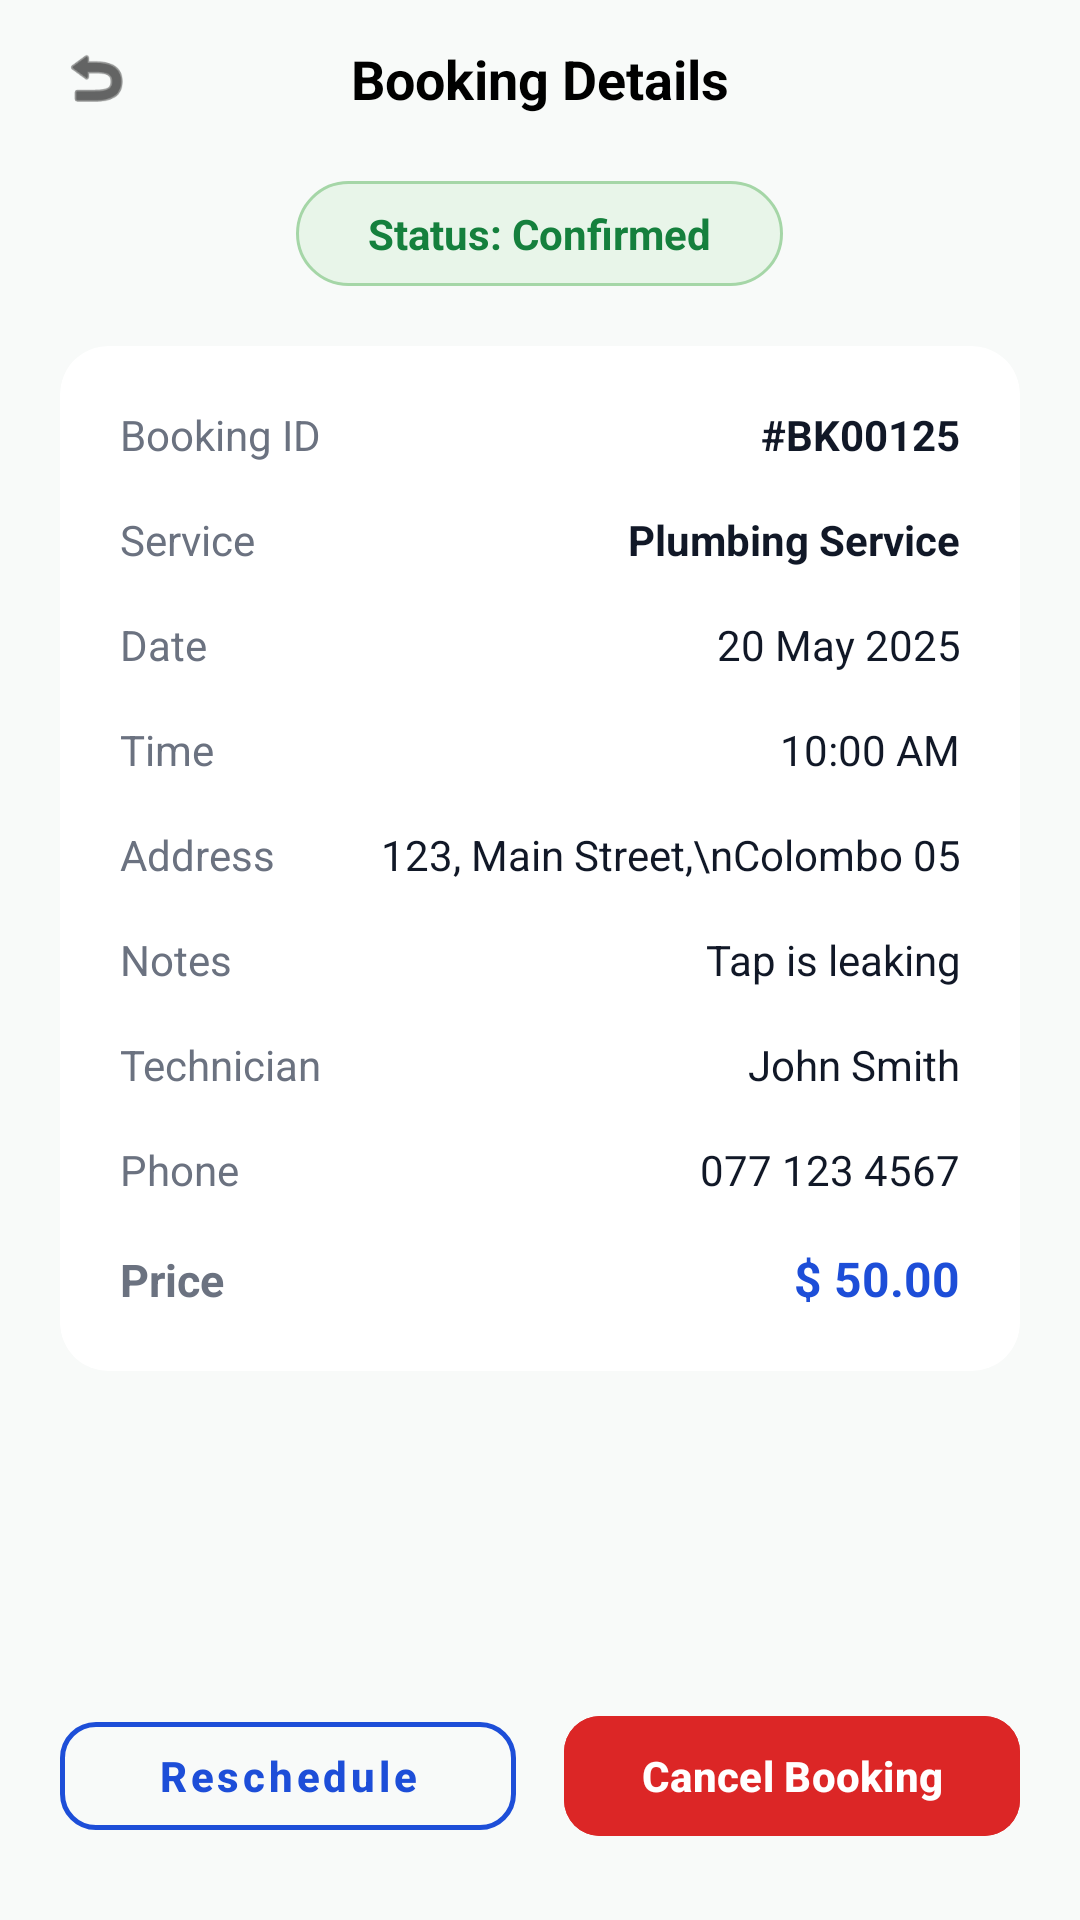

Icon click points for this 1080×1920 phone screenshot, format (x=x, y=y):
Back: (x=97, y=78)
